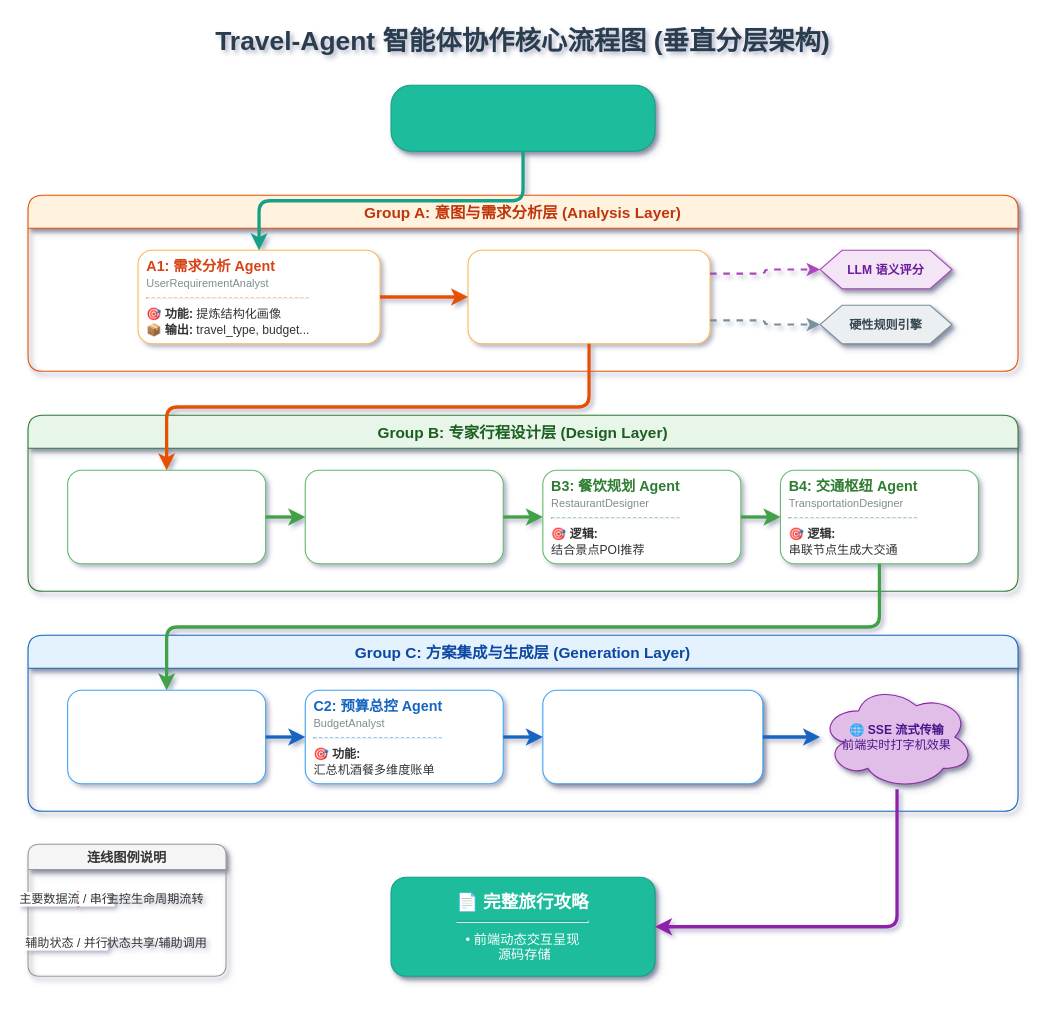
Some shapes in this 1051 by 1010 pixel diagram are drawn without their labels. The centre of each missing label's shape, as x and y in pixels:
A2: 目的地匹配 Agent DestinationMatcher 🎯 功能: 多维度召回推荐 🌟 特色: 特殊偏好优先规避: point (588, 296)
B1: 景点 Agent AttractionDesigner 🔌 数据源: TianAPI/OpenTrip: point (166, 516)
B2: 酒店住宿 Agent AccommodationDesigner 🎯 逻辑: 基于商圈与落脚点: point (403, 516)
C1: 目的地情报 Agent DestIntelligence 🎯 功能: 实时天气与出游警示: point (166, 736)
C3: 最终攻略排版 Agent LLMGuideWriter 🎯 功能: 融合所有数据 📦 特点: 智能润色组合: point (653, 738)
👤 用户交互输入 (自然语言 / 表单意图): point (524, 119)
